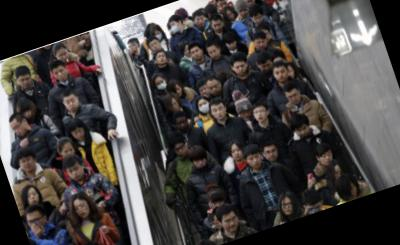with_mask: (197, 99, 213, 114), (154, 78, 168, 91), (154, 30, 165, 43), (170, 21, 181, 33)
without_mask: (66, 163, 87, 184), (221, 213, 242, 234), (26, 214, 46, 234), (73, 200, 92, 220), (18, 155, 37, 174), (172, 141, 191, 159), (211, 103, 229, 122), (63, 95, 81, 113), (246, 152, 264, 170), (252, 106, 270, 124), (25, 189, 42, 207), (53, 66, 70, 84), (11, 121, 28, 138), (207, 81, 224, 98), (263, 146, 280, 163), (343, 184, 360, 201), (294, 124, 312, 140), (280, 199, 296, 216), (273, 67, 290, 83), (318, 151, 335, 167), (175, 118, 191, 134), (233, 62, 249, 78), (287, 91, 303, 107), (230, 146, 245, 163), (71, 127, 87, 142), (18, 75, 34, 90), (193, 156, 209, 171), (189, 47, 205, 62), (60, 145, 77, 159), (207, 46, 222, 61), (55, 50, 71, 64), (253, 37, 269, 51), (148, 39, 163, 53), (259, 61, 274, 75), (210, 198, 226, 211), (154, 52, 168, 66), (239, 107, 254, 120), (198, 85, 211, 99), (194, 15, 207, 29), (211, 21, 225, 34), (251, 13, 265, 26), (169, 99, 181, 113), (21, 108, 34, 120), (173, 85, 185, 98), (226, 39, 238, 51), (287, 67, 297, 80), (333, 168, 344, 179), (126, 43, 136, 55), (237, 8, 249, 18), (182, 46, 192, 57), (226, 10, 236, 21), (214, 218, 223, 230), (264, 30, 273, 42)
